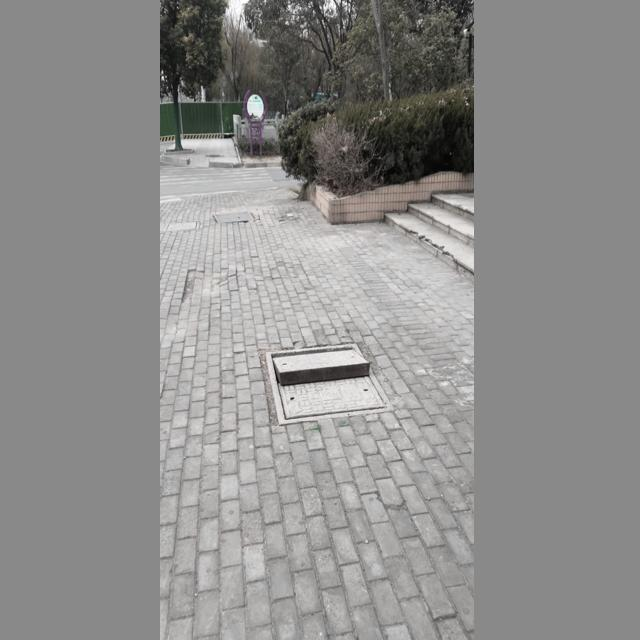uncovered: (267, 340, 396, 424)
